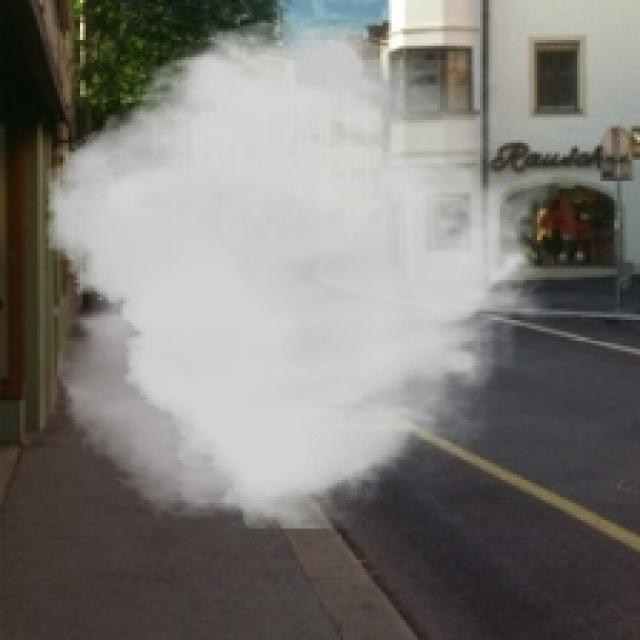Smoke: (46, 14, 563, 529)
